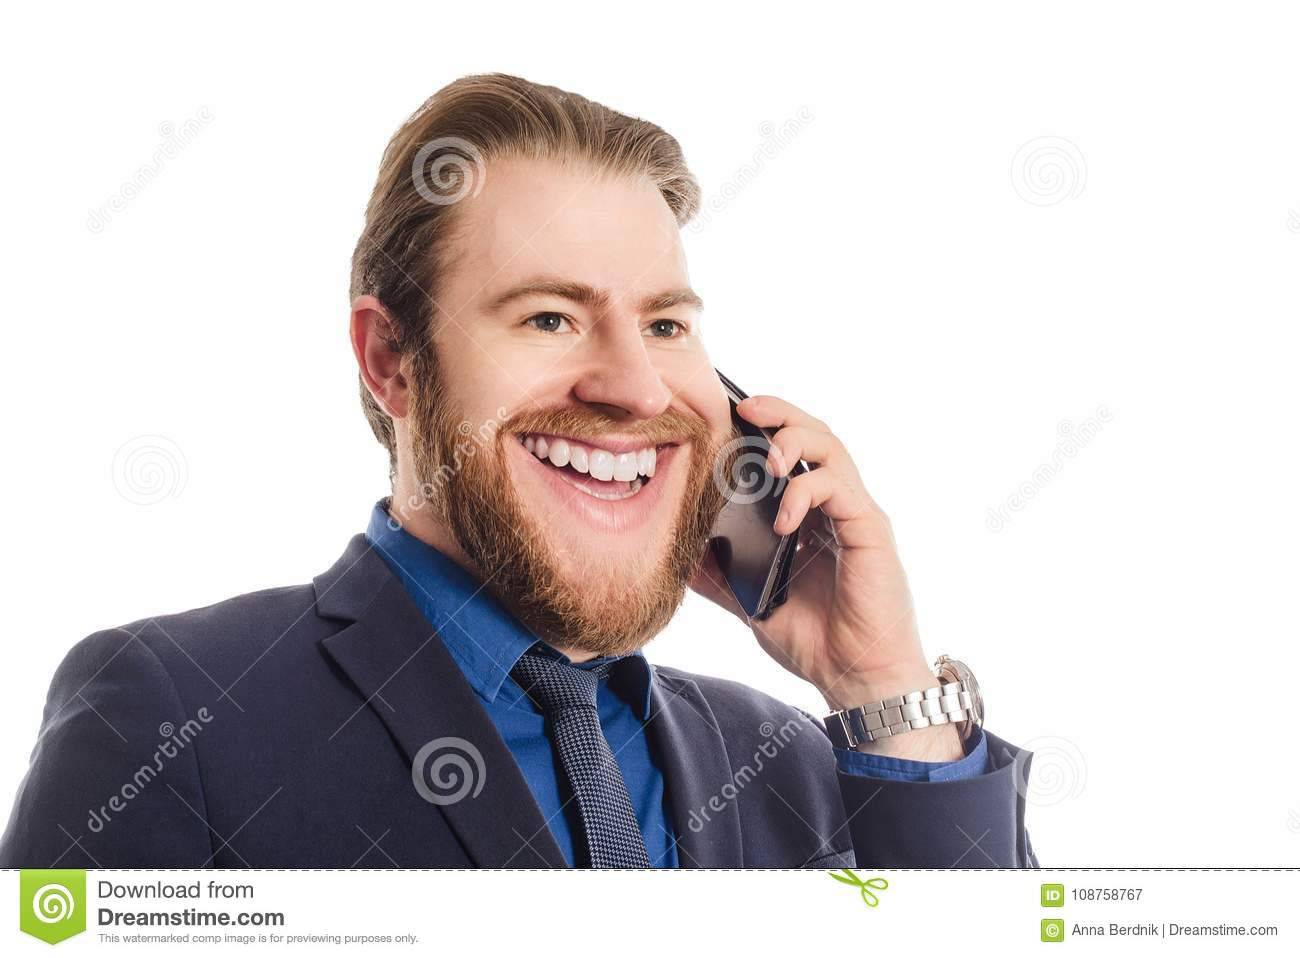phone: (700, 346, 813, 636)
talk: (457, 261, 930, 759)
